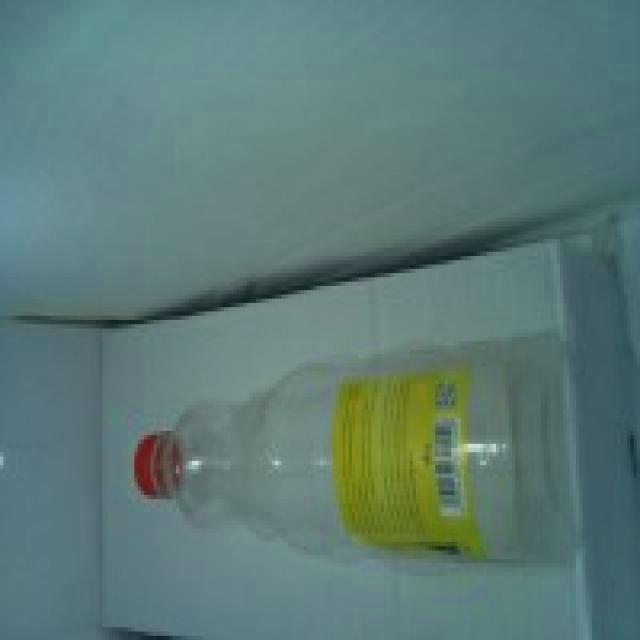bottle: (134, 334, 575, 569)
